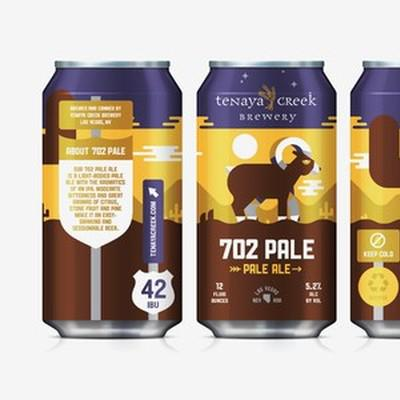beer: (41, 57, 400, 340)
